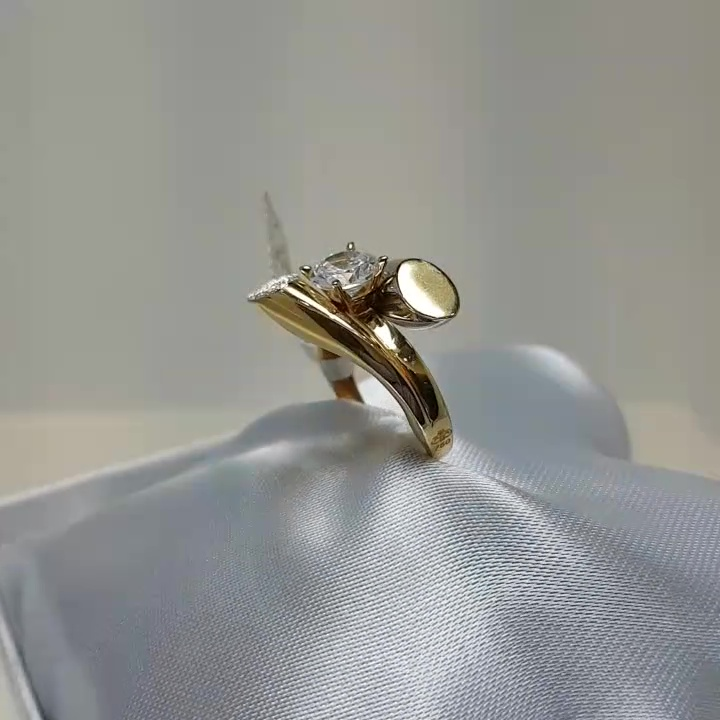Ring 7: (254, 216, 489, 482)
